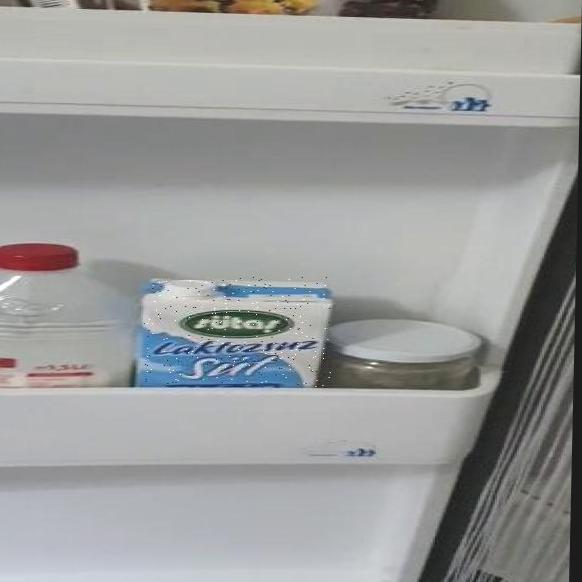milk: (141, 277, 333, 387)
